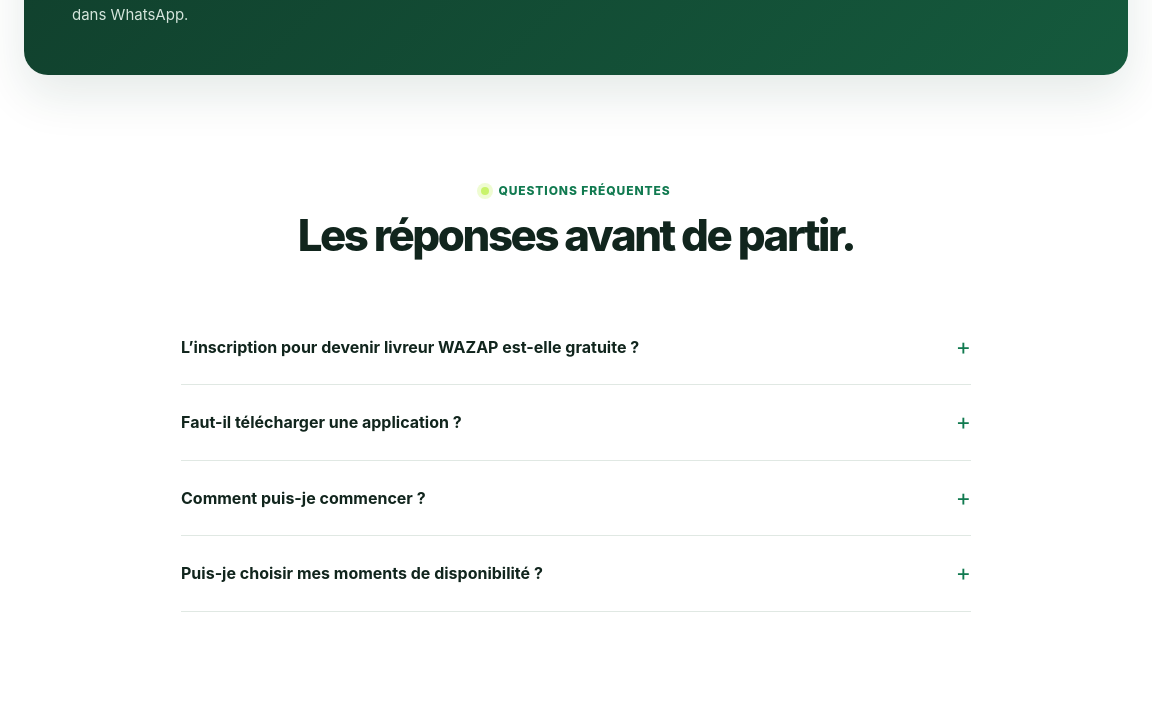
LivreurPage › affiche les réponses aux questions fréquentes
The image size is (1152, 706).
(page scrolled)
Step 1. Click the heading "L’inscription pour devenir livreur WAZAP" → (576, 346), box x1=181 y1=332 x2=971 y2=360
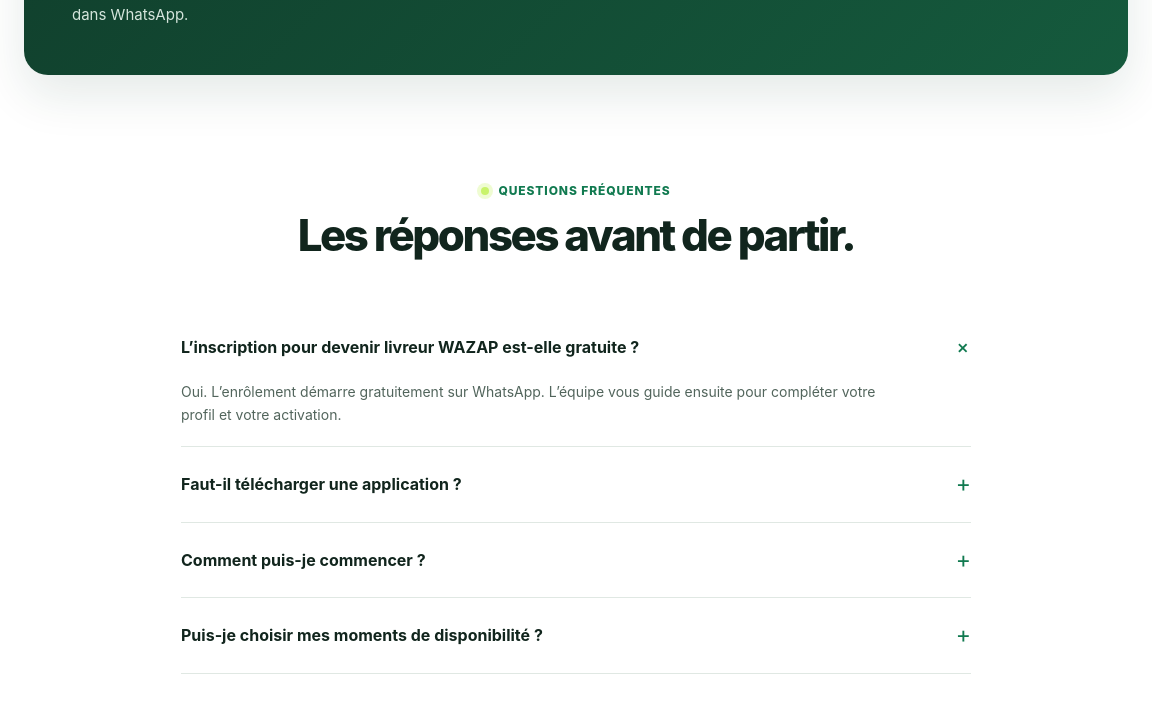
expect the text "L’enrôlement démarre gratuitement" is shown: met, box x1=181 y1=383 x2=875 y2=423
